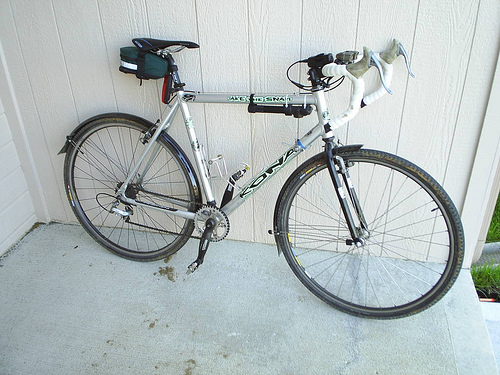bicycle: (34, 15, 475, 327)
